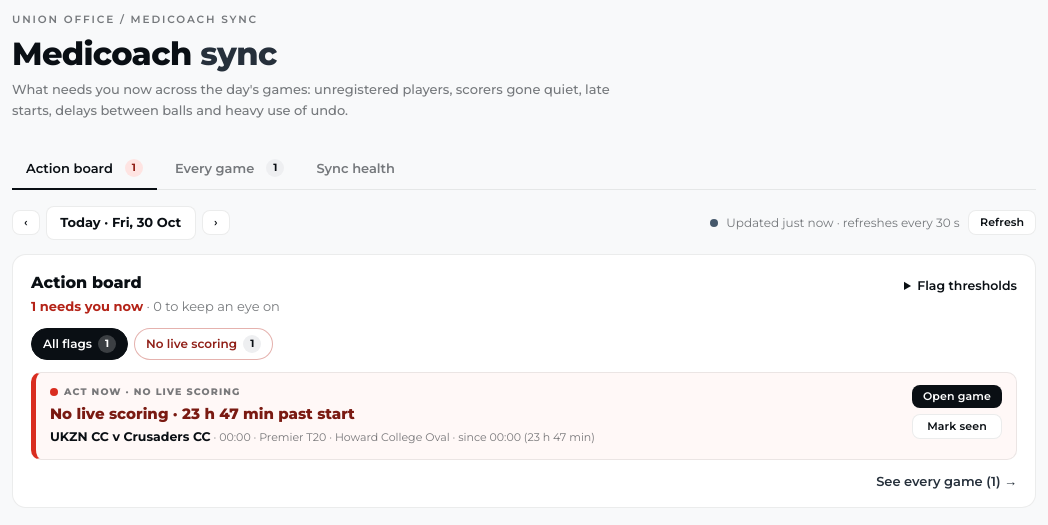
Test: match monitor tab › goes from the board to every game, and an old saved "monitor" tab opens the board
Expected: the tab "Action board 1" is shown, x1=12 y1=148 x2=157 y2=190
Click the button "See every game (1) →".
click(947, 481)  # box x1=876 y1=472 x2=1017 y2=491
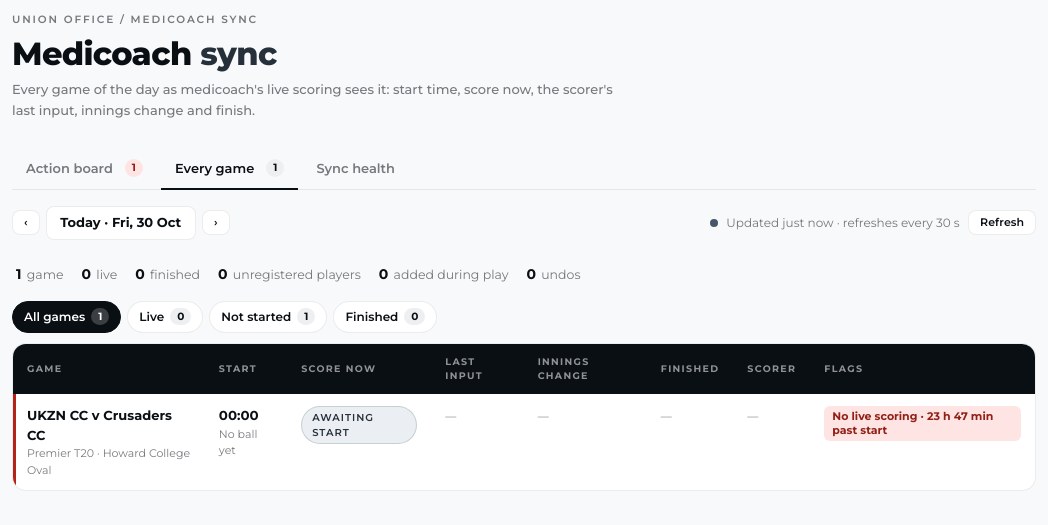
Expected: the tab "Every game 1" is shown, x1=161 y1=148 x2=298 y2=190
Now the table named "Games" is shown, box x1=13 y1=344 x2=1035 y2=490
